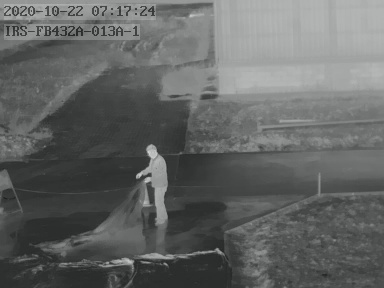person: (139, 143, 168, 222)
